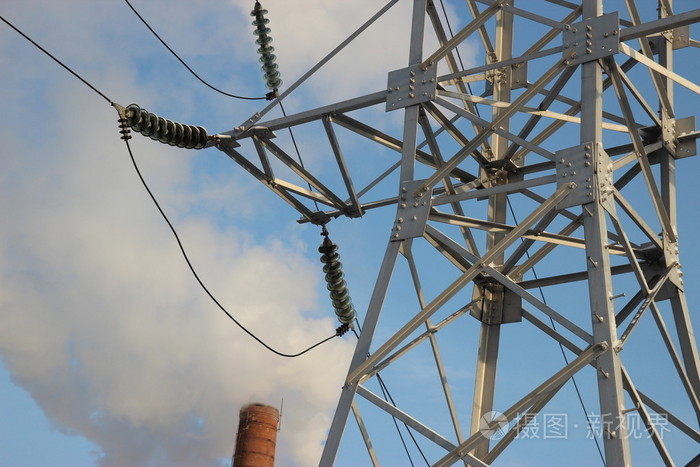insulator: (124, 102, 208, 151), (320, 242, 357, 323), (251, 10, 283, 91)
